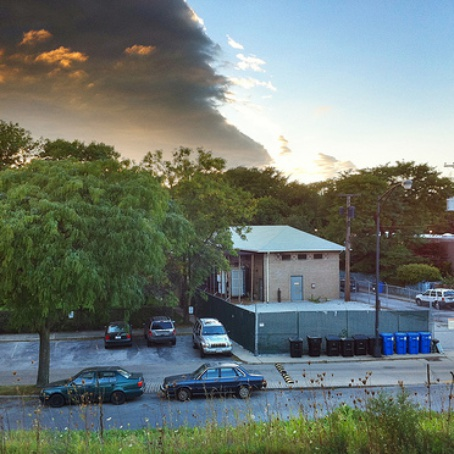building: (216, 219, 351, 301)
car: (157, 363, 271, 405), (42, 364, 144, 405), (185, 315, 228, 358), (142, 313, 177, 349), (95, 313, 130, 349)
sky: (1, 1, 450, 163)
street: (1, 378, 434, 443)
trash can: (419, 328, 437, 358), (365, 333, 383, 361), (378, 329, 396, 357), (392, 330, 410, 358), (403, 330, 421, 358), (289, 332, 307, 357), (305, 332, 323, 357), (321, 335, 339, 360), (336, 334, 354, 359), (354, 332, 367, 363)
tree: (1, 156, 183, 434)
vegetation: (163, 163, 454, 292)
